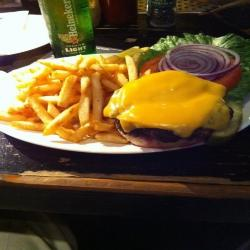burger: (115, 35, 240, 150)
fries: (10, 54, 137, 143)
salad: (152, 31, 250, 94)
